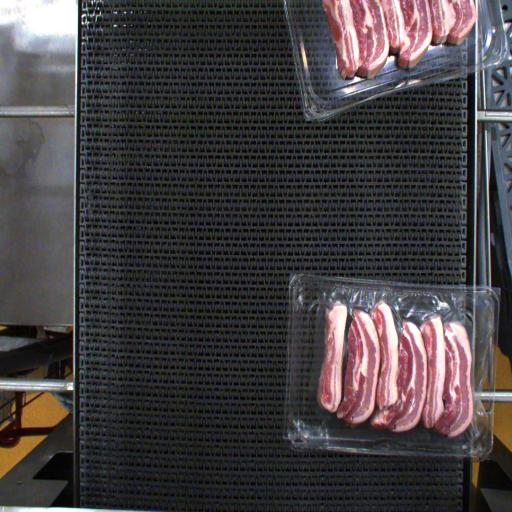unsealed: (307, 278, 495, 394)
